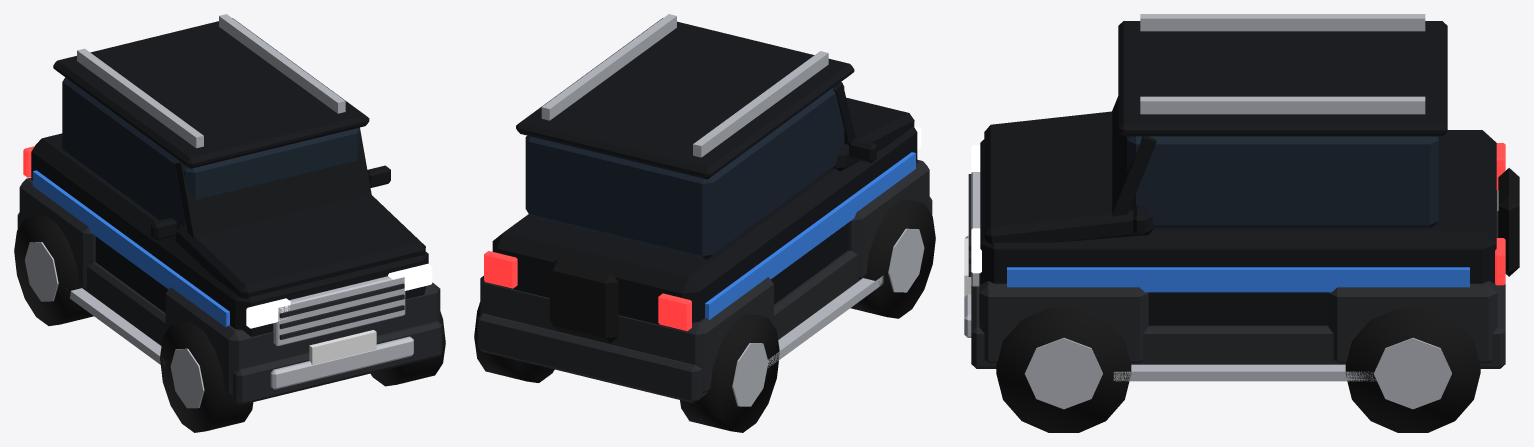
File: tarit.glb
3 renders of one model, left to right at view 1: azimuth 30°, elevation 25°; view 2: azimuth 150°, elevation 25°; view 3: azimuth 270°, elevation 25°, orthographic. The views are drawn at different scales.
Parts seen in each view (by area): view 1: roof, hood, cabin, body, pillar_f, skirt, arch_1, tire_FL, tire_RL, stripe_L, grille, skid (+15 smaller); view 2: cabin, roof, body, skirt, arch_0, tire_RL, spare, tire_FL, stripe_L, arch_1, rail_R, rail_L (+9 smaller); view 3: body, roof, cabin, hood, stripe_R, skirt, tire_FR, tire_RR, arch_0, arch_1, rail_R, rail_L (+6 smaller).
Boxes of the visible parts, bbox=[...] form: roof: bbox=[53, 18, 369, 168]; hood: bbox=[175, 194, 425, 298]; cabin: bbox=[62, 77, 360, 228]; body: bbox=[31, 133, 428, 336]; pillar_f: bbox=[175, 127, 371, 238]; skirt: bbox=[17, 212, 442, 405]; arch_1: bbox=[165, 282, 440, 395]; tire_FL: bbox=[160, 321, 253, 432]; tire_RL: bbox=[14, 215, 93, 325]; stripe_L: bbox=[32, 170, 229, 327]; grille: bbox=[273, 276, 405, 346]; skid: bbox=[270, 336, 413, 389]; cabin: bbox=[525, 82, 844, 259]; roof: bbox=[516, 18, 854, 179]; body: bbox=[492, 127, 917, 330]; skirt: bbox=[477, 197, 932, 403]; arch_0: bbox=[480, 275, 773, 393]; tire_RL: bbox=[680, 314, 779, 432]; spare: bbox=[549, 259, 618, 343]; tire_FL: bbox=[850, 200, 935, 318]; stripe_L: bbox=[705, 152, 915, 319]; arch_1: bbox=[848, 159, 929, 278]; rail_R: bbox=[541, 14, 676, 120]; rail_L: bbox=[693, 51, 828, 157]; body: bbox=[980, 130, 1496, 325]; roof: bbox=[1118, 21, 1447, 136]; cabin: bbox=[1127, 136, 1438, 228]; hood: bbox=[984, 111, 1153, 244]; stripe_R: bbox=[1007, 267, 1469, 292]; skirt: bbox=[971, 211, 1505, 368]; tire_FR: bbox=[996, 308, 1131, 432]; tire_RR: bbox=[1345, 308, 1480, 432]; arch_0: bbox=[1328, 190, 1497, 363]; arch_1: bbox=[979, 273, 1148, 363]; rail_R: bbox=[1140, 96, 1425, 114]; rail_L: bbox=[1140, 14, 1425, 31].
Bounding box in the file's own units: 1.84 × 1.91 × 3.12.
